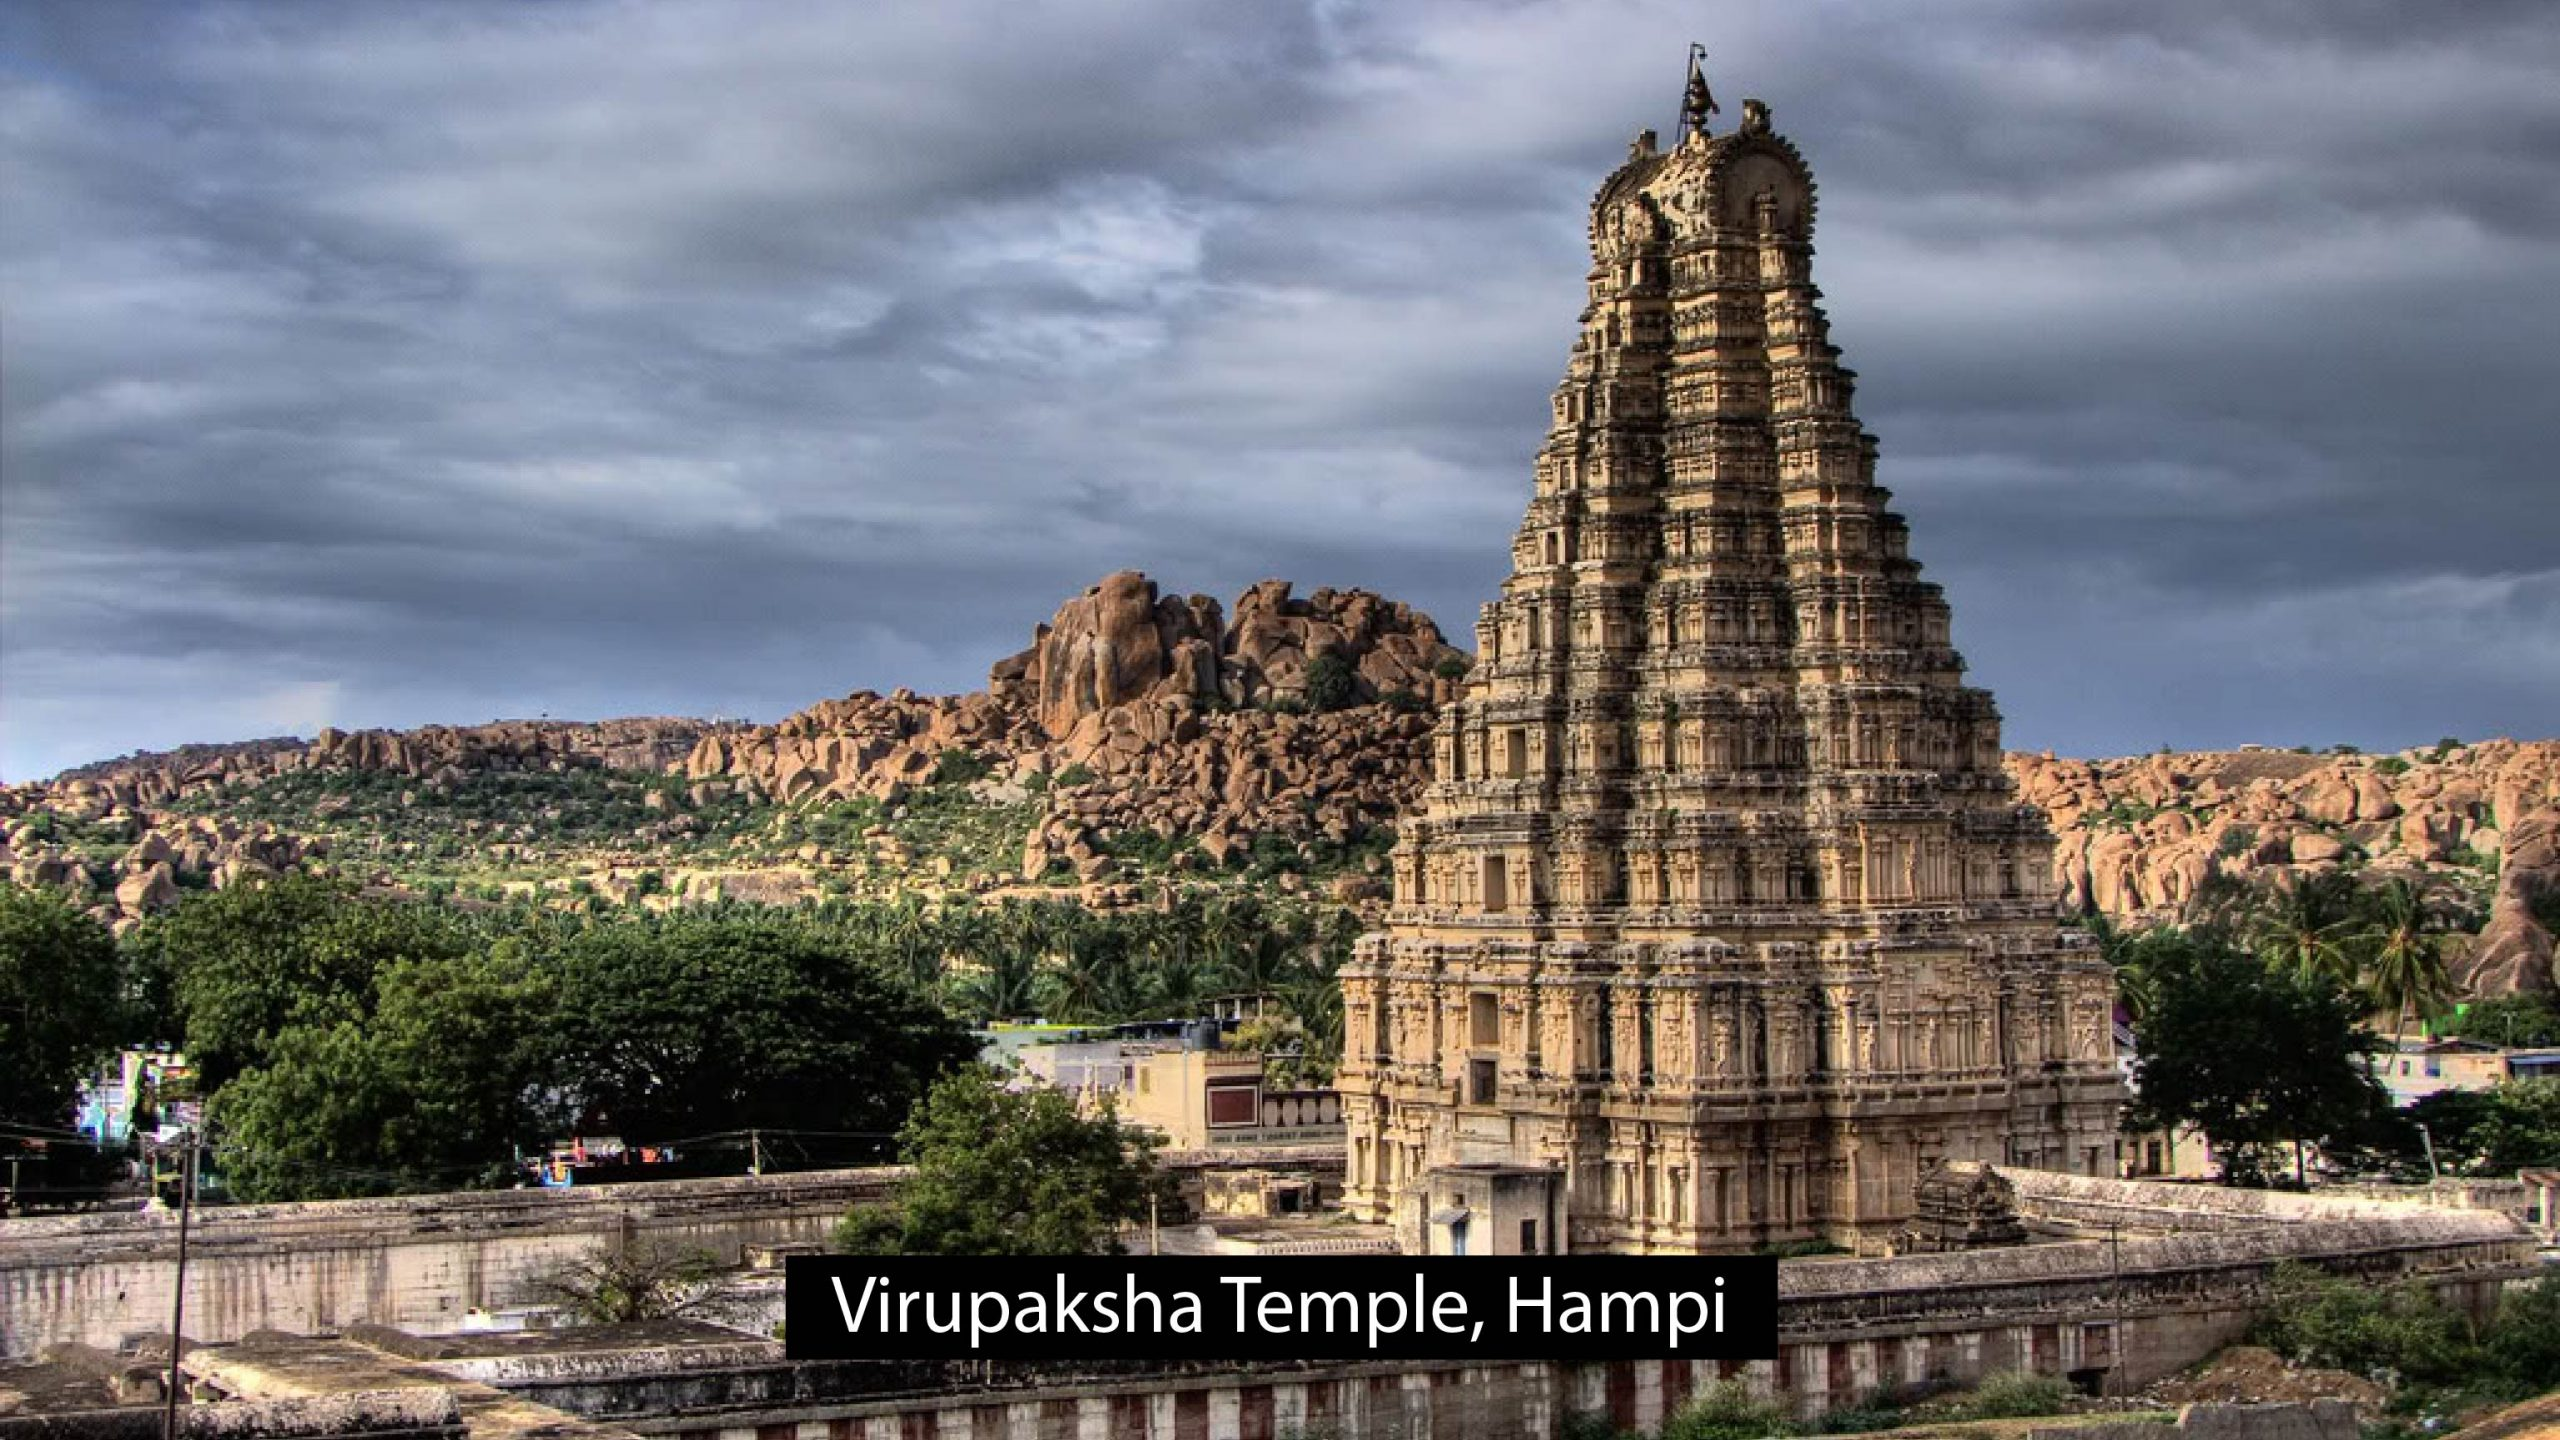Temple: (1333, 114, 2124, 1215)
